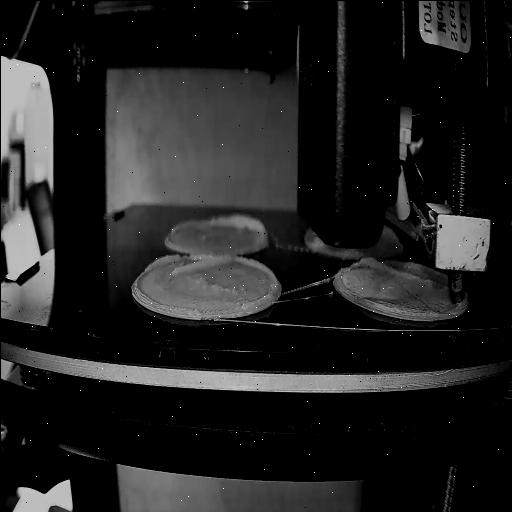over_extrusion: (232, 252, 278, 306), (142, 251, 232, 277), (355, 254, 431, 284), (208, 212, 268, 242)
